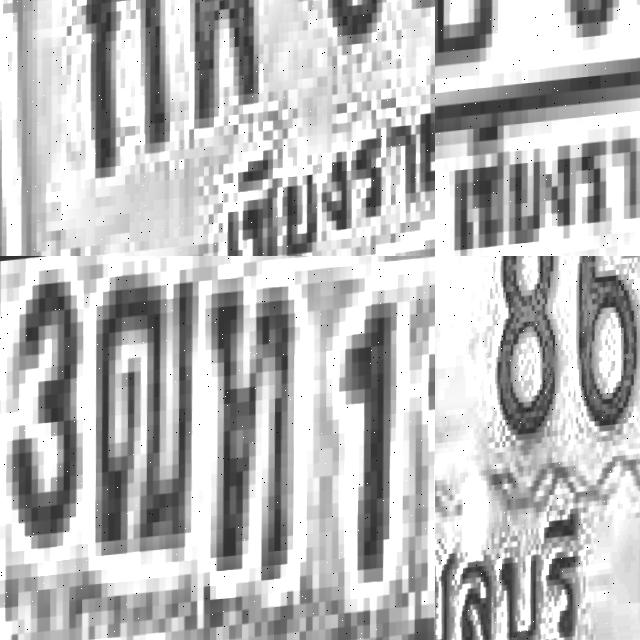license-plate: (0, 256, 435, 640), (0, 0, 435, 256), (435, 256, 640, 640), (435, 0, 640, 256)
